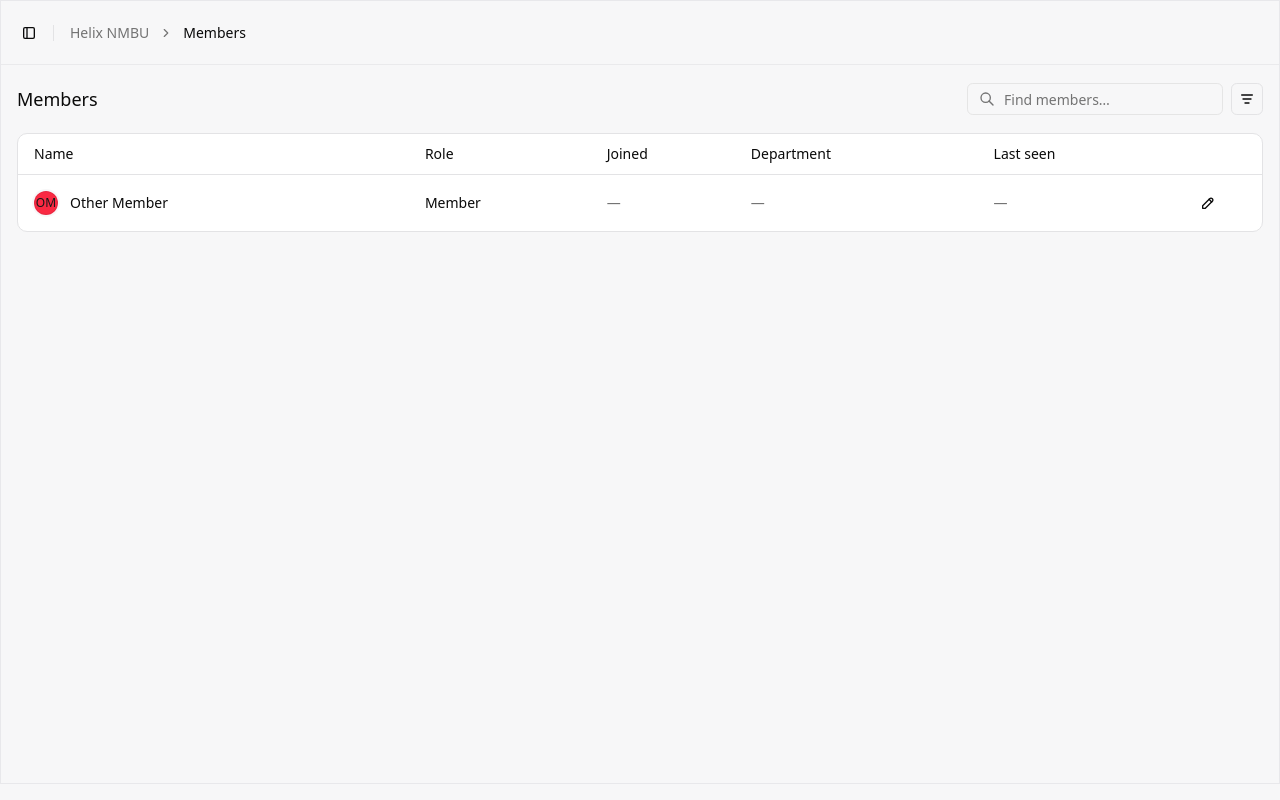
Test: internal member platform › lets a granted platform administrator edit access from an icon in Members
Expected: the icon in the row of "OM" is shown, [1200, 194, 1216, 210]
Click the button named "Edit Other Member" at (1208, 202), box [1190, 184, 1226, 220]
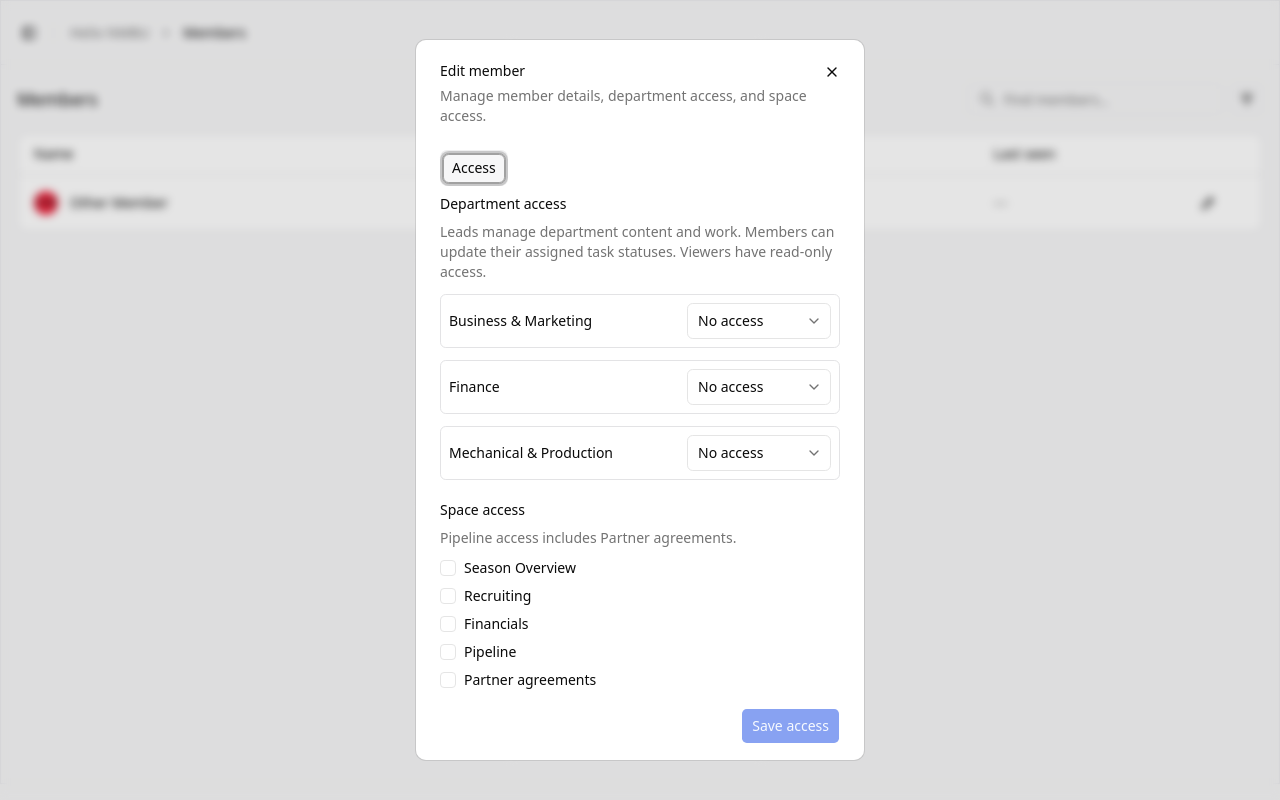
Expected: the dialog shows "department access", [440, 194, 566, 213]
Expected: the dialog shows "space access", [440, 500, 525, 519]
Expected: the dialog shows "Season Overview", [464, 558, 576, 577]
Click the checkbox next to "Financials" at (448, 624), box [440, 616, 456, 632]
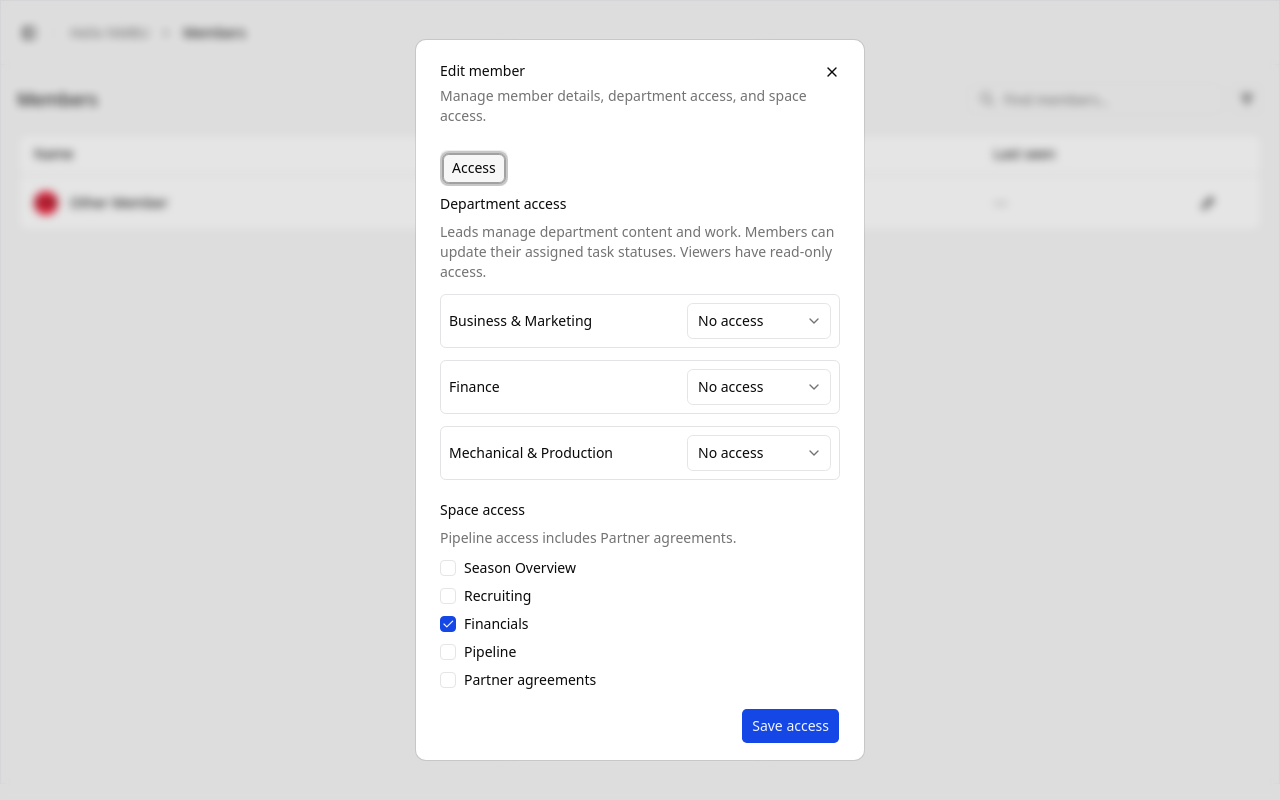
Submit the form, box [440, 194, 840, 744]
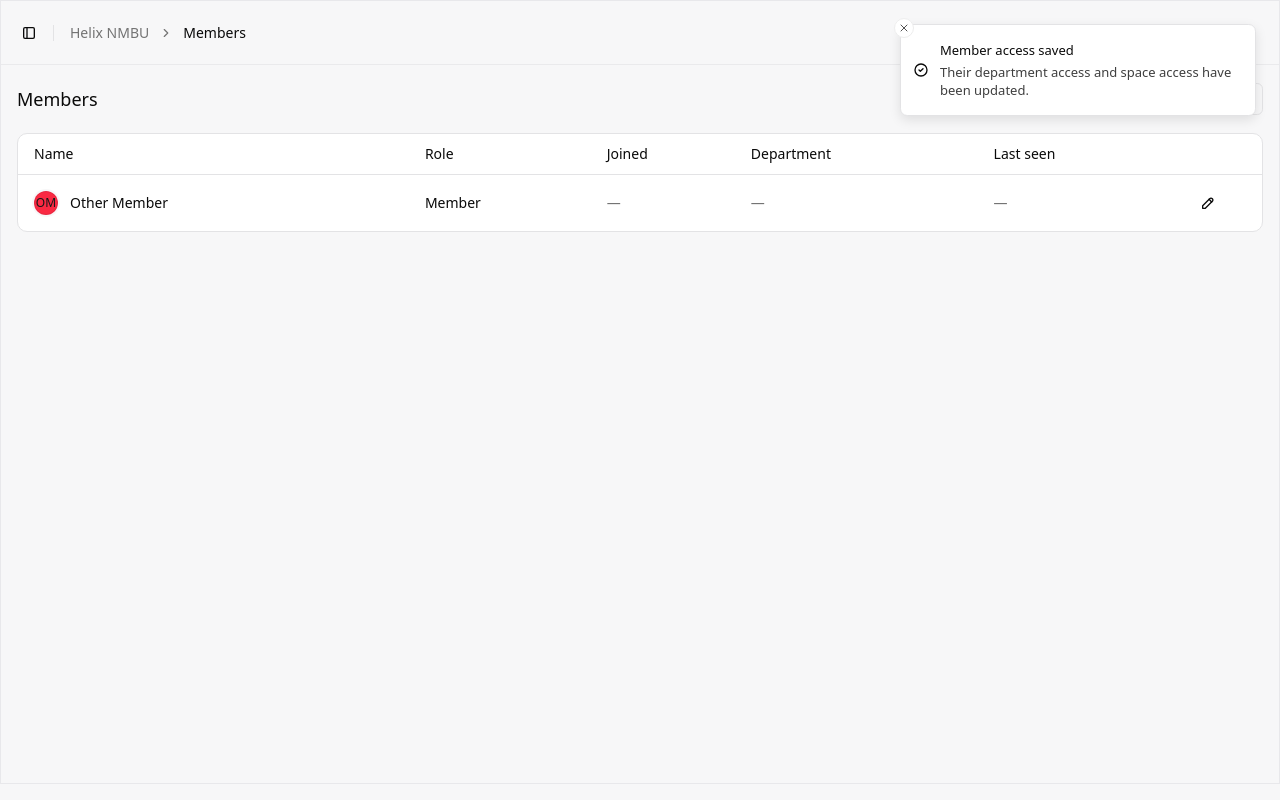
Expected: the dialog is gone
